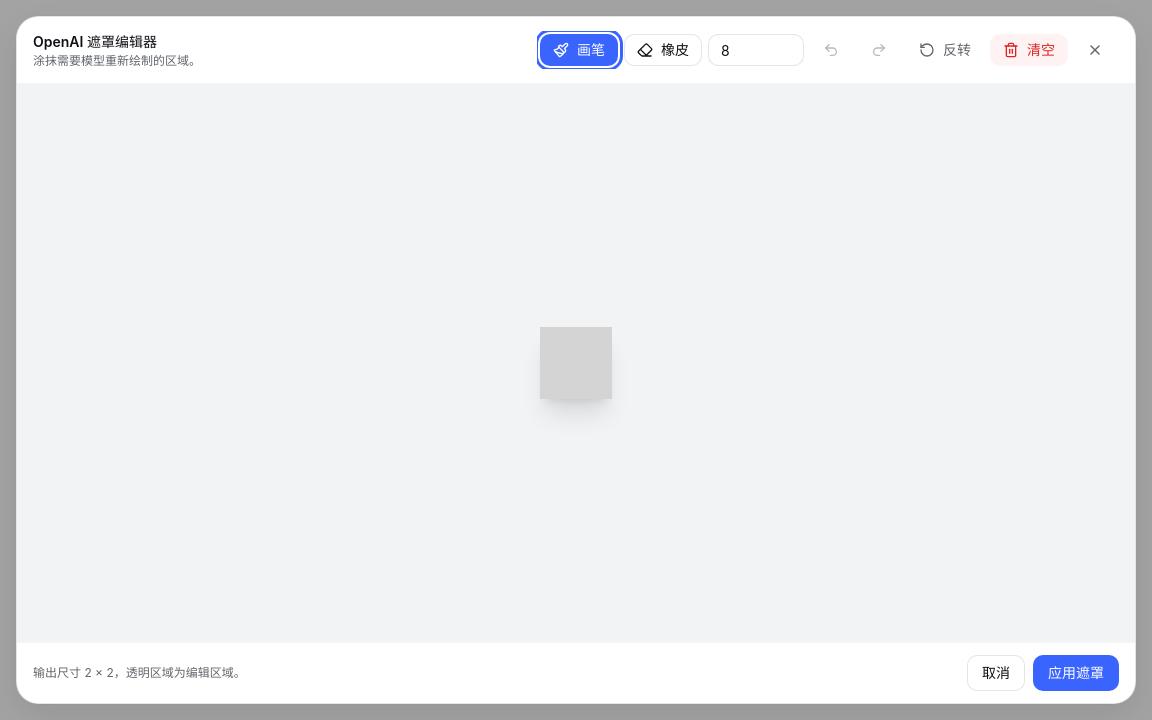
Test case: keeps undo and redo history consistent in React StrictMode
Click the button "反转" at coordinates (945, 50), box x1=906 y1=34 x2=984 y2=66
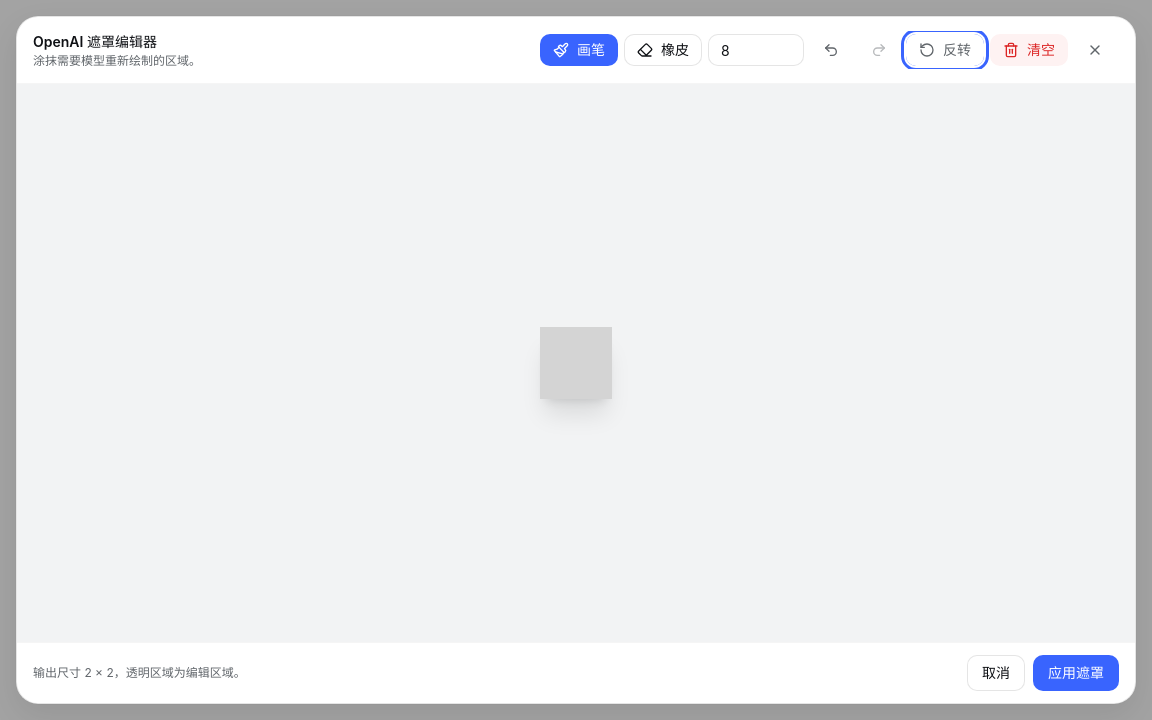
Click the button named "撤销" at coordinates (831, 50), box x1=810 y1=34 x2=852 y2=66
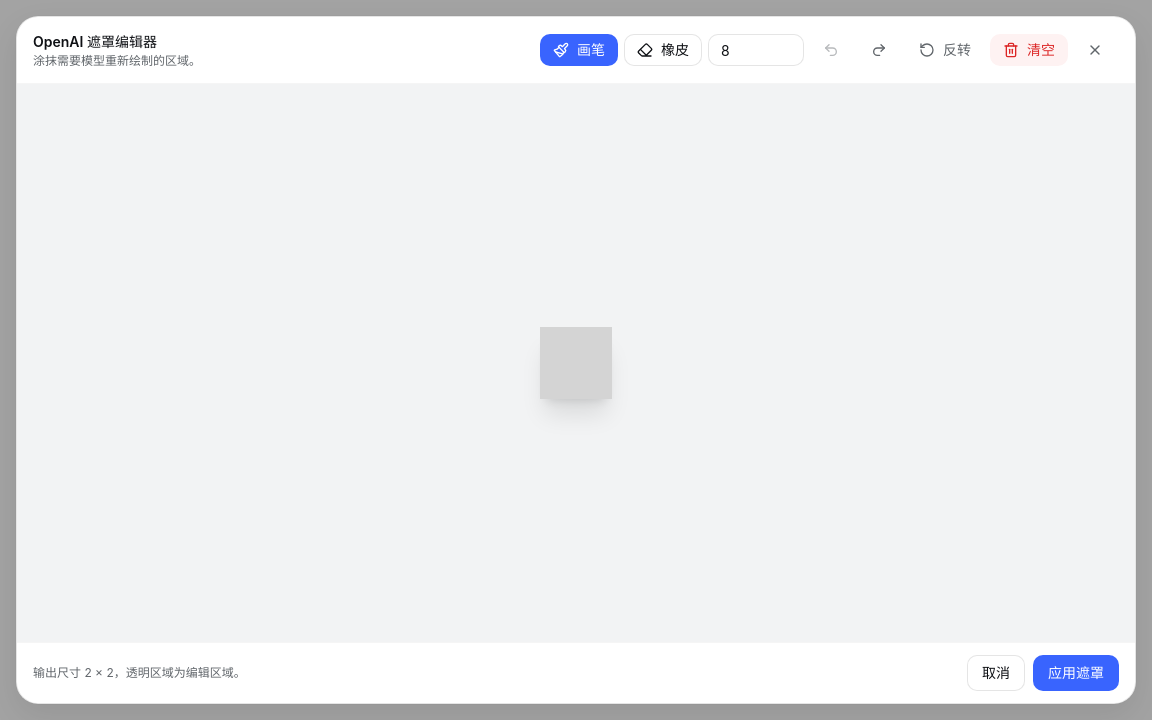
Expected: the button named "撤销" is disabled, x1=810 y1=34 x2=852 y2=66
Expected: the button named "重做" is enabled
Click the button named "重做" at coordinates (879, 50), box x1=858 y1=34 x2=900 y2=66
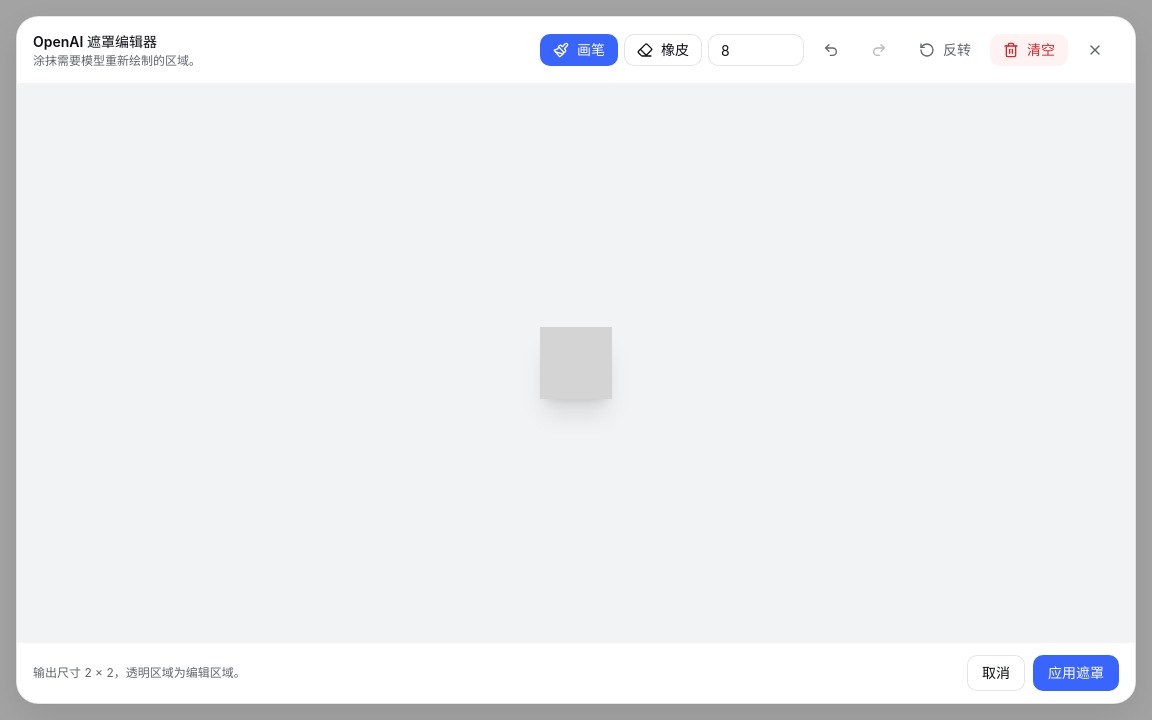
Expected: the button named "重做" is disabled, x1=858 y1=34 x2=900 y2=66
Expected: the button named "撤销" is enabled
Click the button named "撤销" at coordinates (831, 50), box x1=810 y1=34 x2=852 y2=66
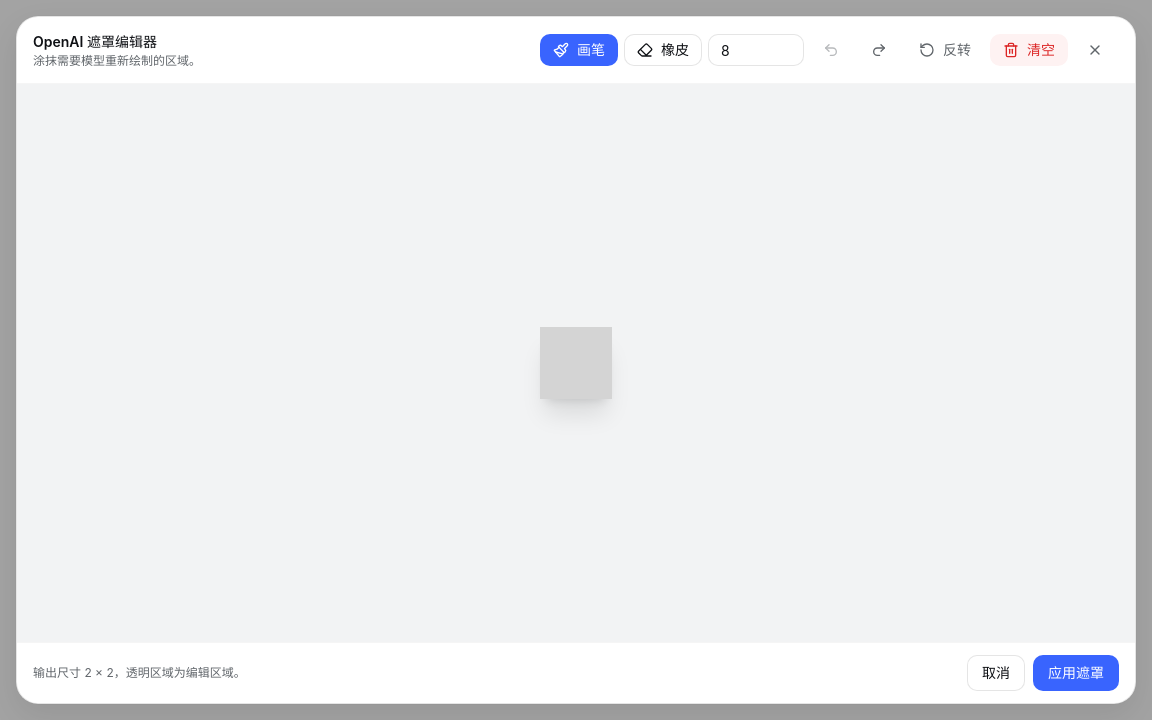
Expected: the button named "撤销" is disabled, x1=810 y1=34 x2=852 y2=66
